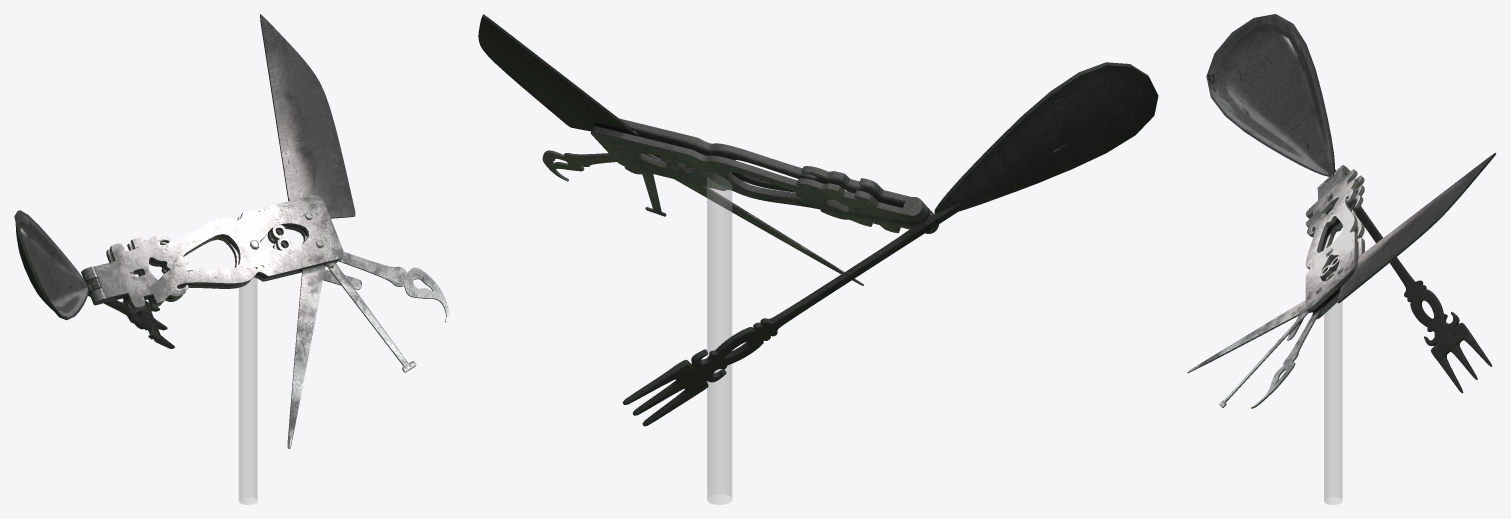
File: Roman_Multi_Tool.glb
3 renders of one model, left to right at view 1: azimuth 30°, elevation 25°; view 2: azimuth 150°, elevation 25°; view 3: azimuth 270°, elevation 25°, orthographic. The views are drawn at different scales.
Visible parts, largest first — view 1: Multi-Tool_3D_Baked, Knife D.002, Knife C.002, Spork.002, Clear Stand; view 2: Spork.002, Multi-Tool_3D_Baked, Clear Stand, Knife D.002, Knife C.002; view 3: Spork.002, Multi-Tool_3D_Baked, Clear Stand, Knife D.002, Knife C.002.
Part boxes in pixels (box(x1,y1,x2,y2)): Multi-Tool_3D_Baked: box(81, 195, 343, 312); Knife D.002: box(260, 14, 355, 218); Knife C.002: box(287, 252, 449, 448); Spork.002: box(14, 210, 174, 348); Clear Stand: box(239, 277, 257, 504); Spork.002: box(622, 62, 1158, 426); Multi-Tool_3D_Baked: box(590, 118, 939, 233); Clear Stand: box(707, 172, 731, 504); Knife D.002: box(478, 14, 642, 137); Knife C.002: box(542, 150, 863, 285); Spork.002: box(1206, 14, 1492, 393); Multi-Tool_3D_Baked: box(1305, 165, 1364, 319); Clear Stand: box(1324, 260, 1342, 504); Knife D.002: box(1337, 153, 1495, 303); Knife C.002: box(1187, 299, 1327, 408).
Bounding box in the file's own units: 4.26 × 3.77 × 2.68.
5 materials, 4 textured.
